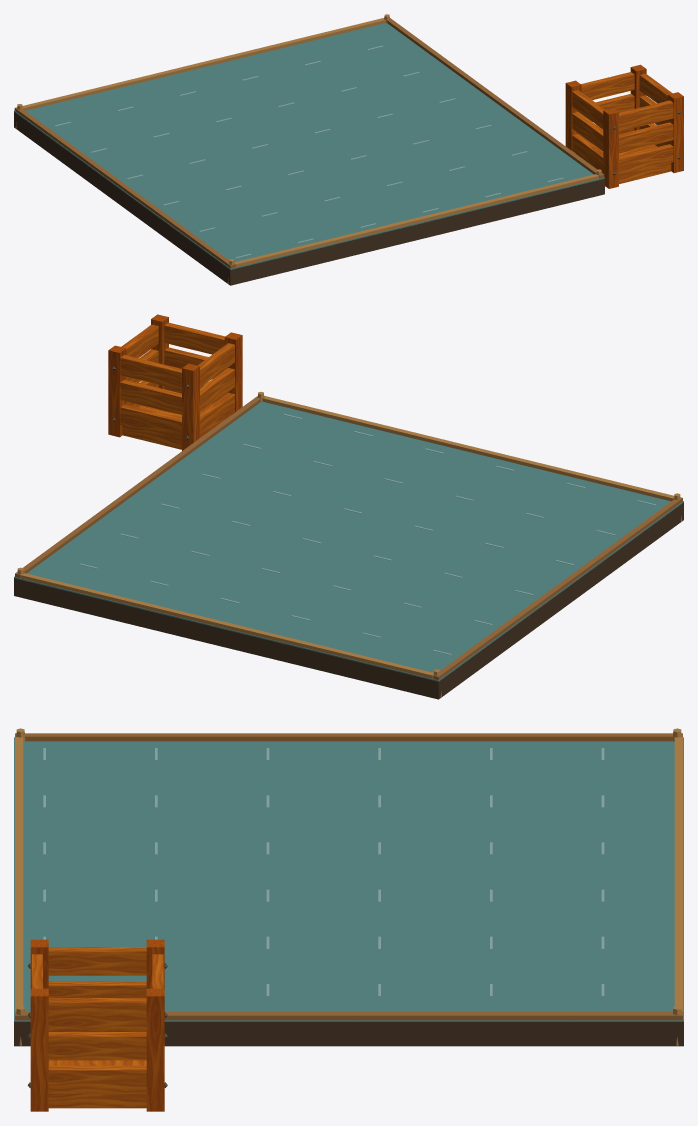
File: farm-large-with-box-water.gltf
3 renders of one model, top to bottom at view 1: azimuth 30°, elevation 25°; view 2: azimuth 150°, elevation 25°; view 3: azimuth 270°, elevation 25°, orthographic. The views are drawn at different scales.
Visible parts, largest first — view 1: farm-large-with-box-water; view 2: farm-large-with-box-water; view 3: farm-large-with-box-water.
Part boxes in pixels (left/top/right/bottom): farm-large-with-box-water: left=14, top=14, right=683, bottom=285; farm-large-with-box-water: left=14, top=314, right=683, bottom=699; farm-large-with-box-water: left=14, top=728, right=683, bottom=1111.
Bounding box in the file's own units: 4.91 × 0.759 × 4.
Materials: 2 (1 with a texture image).
